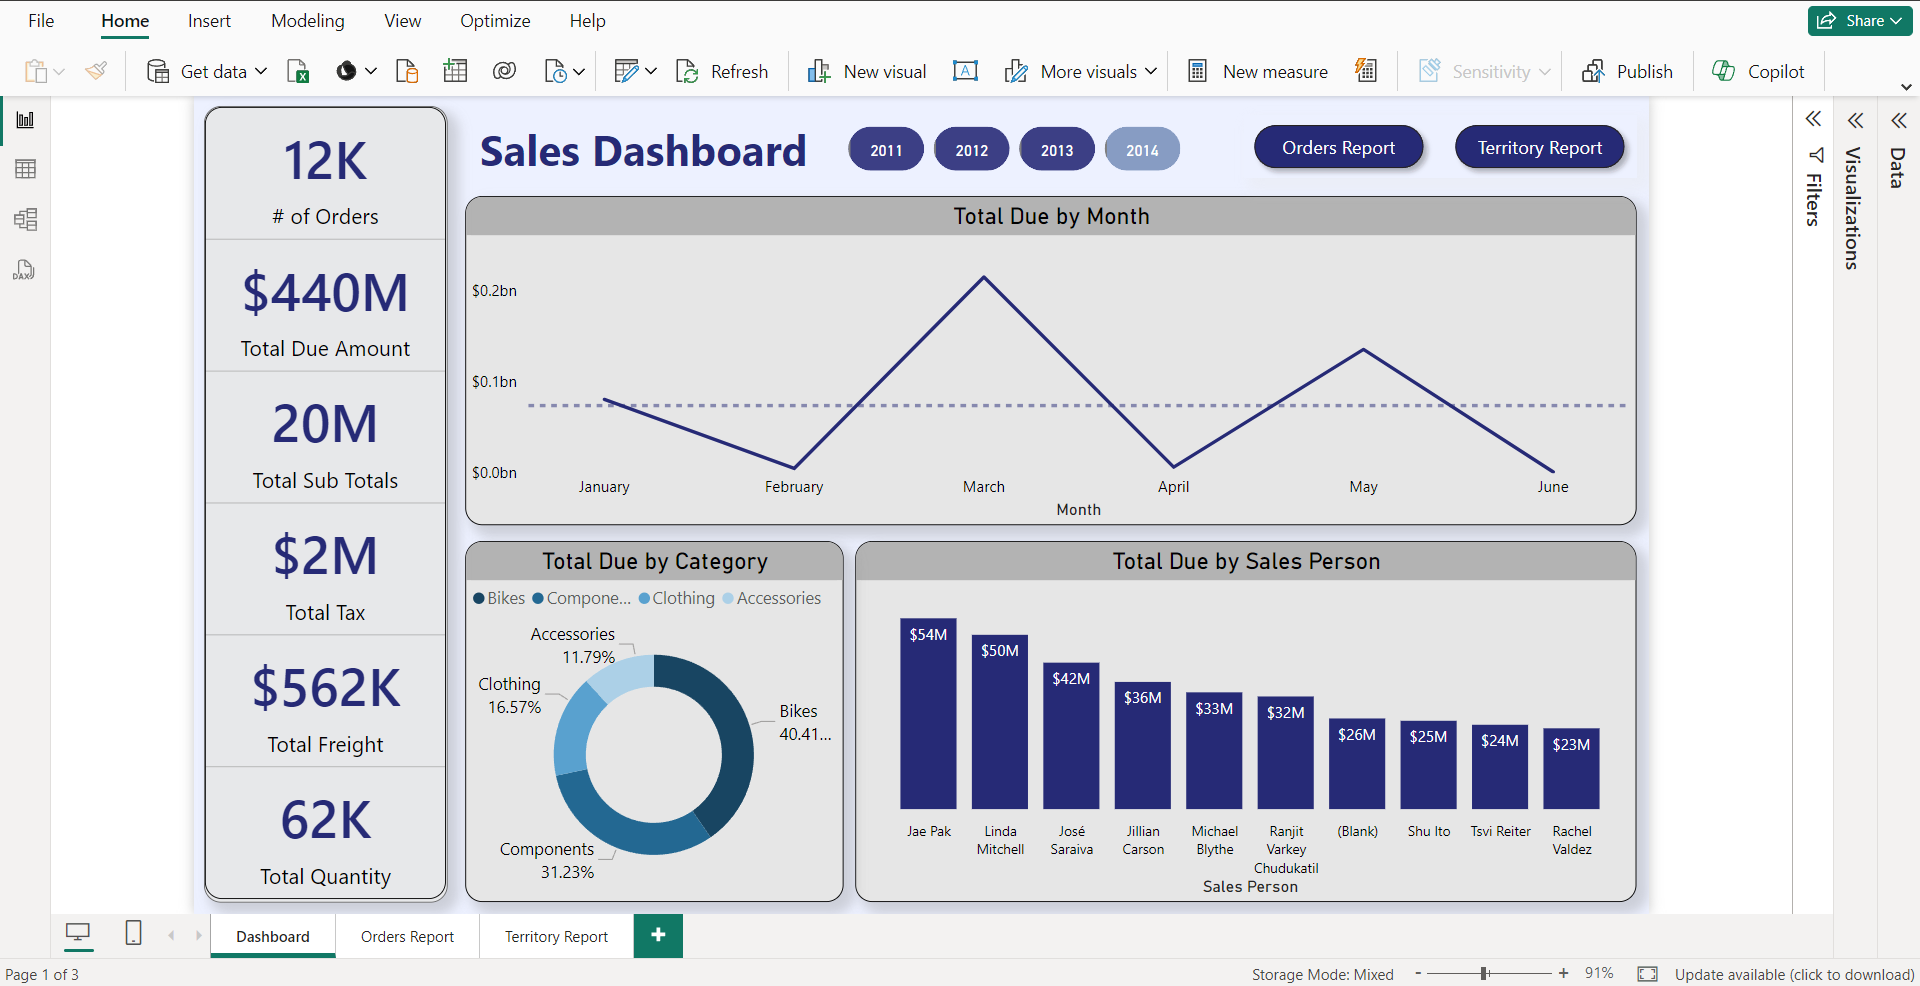

The dashboard page shown, as its layout file describes it:
{"tool":"powerbi","page":{"name":"Dashboard","canvas":[1280,720],"ordinal":0},"visuals":[{"type":"cardVisual","fields":{"Data":["tbl| Measures.# of Orders","tbl| Measures.Total Due Amount","tbl| Measures.Total Sub Totals","tbl| Measures.Total Tax","tbl| Measures.Total Freight","tbl| Measures.Total Quantity"]},"box":[8.4,8.4,214.7,700.9],"z":0},{"type":"textbox","box":[246.1,16.9,324.5,61.5],"z":1000},{"type":"lineChart","title":"Total Due by Month","fields":{"Category":["DIM| Date.Date.Variation.Date Hierarchy.Year","DIM| Date.Date.Variation.Date Hierarchy.Quarter","DIM| Date.Date.Variation.Date Hierarchy.Month","DIM| Date.Date.Variation.Date Hierarchy.Day"],"Y":["tbl| Measures.Total Due Amount"]},"box":[238.9,88.1,1030.3,289.5],"z":2000},{"type":"advancedSlicerVisual","fields":{"Values":["DIM| Date.Year"]},"box":[570.6,21.7,304,49.5],"z":3000},{"type":"columnChart","title":"Total Due by Sales Person","fields":{"Category":["DIM| SalesPerson.Full Name"],"Y":["tbl| Measures.Total Due Amount"]},"box":[581.4,391.9,687.2,317.4],"z":4000},{"type":"donutChart","title":"Total Due by Category","fields":{"Y":["tbl| Measures.Total Due Amount"],"Category":["DIM| Product.Product Category"]},"box":[238.4,391.9,332.6,317.4],"z":5000},{"type":"pageNavigator","box":[923.6,16.5,345.3,56.1],"z":6000}]}

Visuals, with their boxes on the page's 1280x720 design canvas (x1, y1, x2, y2). These are canvas units, not pixel positions in the 1920x986 screenshot, which may show the page scaled, cropped or inside an application window:
cardVisual - tbl| Measures.# of Orders x tbl| Measures.Total Due Amount: bbox(8, 8, 223, 709)
textbox: bbox(246, 17, 571, 78)
"Total Due by Month" lineChart: bbox(239, 88, 1269, 378)
advancedSlicerVisual - DIM| Date.Year: bbox(571, 22, 875, 71)
"Total Due by Sales Person" columnChart: bbox(581, 392, 1269, 709)
"Total Due by Category" donutChart: bbox(238, 392, 571, 709)
pageNavigator: bbox(924, 16, 1269, 73)
